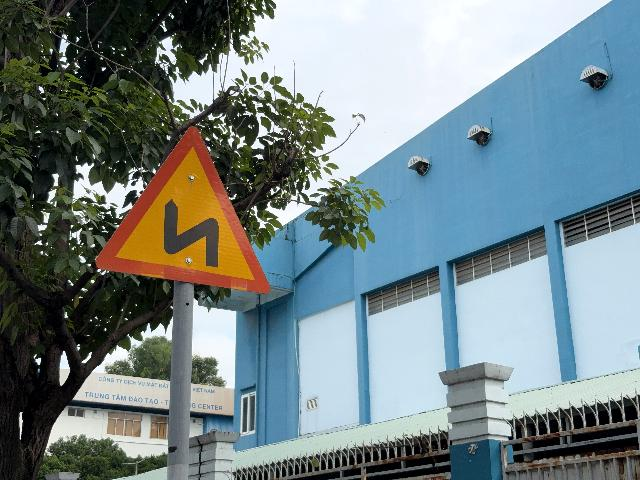nhieu-cho-ngoat-nguy-hiem-lien-tiep: (95, 125, 271, 294)
